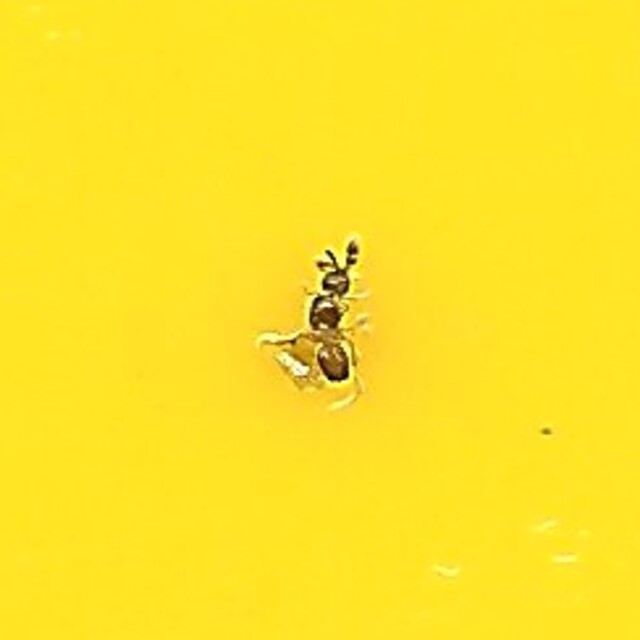Hymenoptera: (262, 236, 378, 404)
